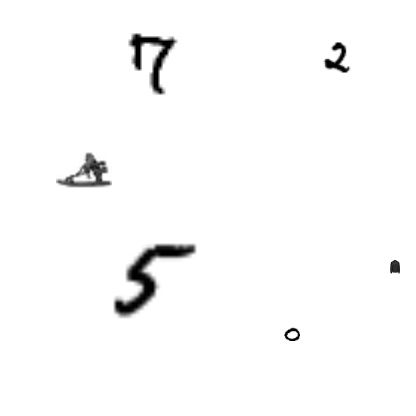0: (281, 323, 303, 345)
2: (316, 38, 358, 80)
5: (91, 217, 203, 329)
7: (108, 13, 192, 97)
Coat: (388, 260, 402, 274)
Sandal: (56, 141, 112, 197)
